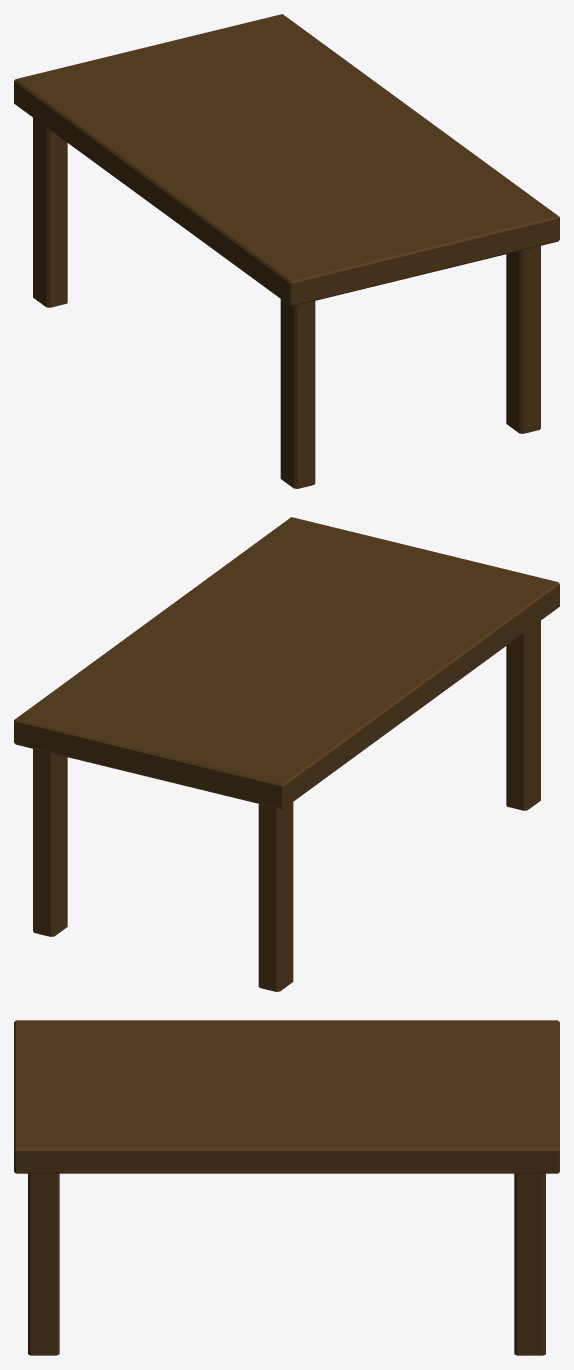
The picture shows the model from 3 angles, top to bottom: view 1: azimuth 30°, elevation 25°; view 2: azimuth 150°, elevation 25°; view 3: azimuth 270°, elevation 25°; orthographic projection.
Parts seen in each view (by area): view 1: Table; view 2: Table; view 3: Table.
Boxes of the visible parts, bbox=[...] form: Table: bbox=[14, 14, 559, 488]; Table: bbox=[14, 517, 559, 991]; Table: bbox=[14, 1020, 559, 1355].
Size of the model in its own units: 3.65 by 2.78 by 6.5.
